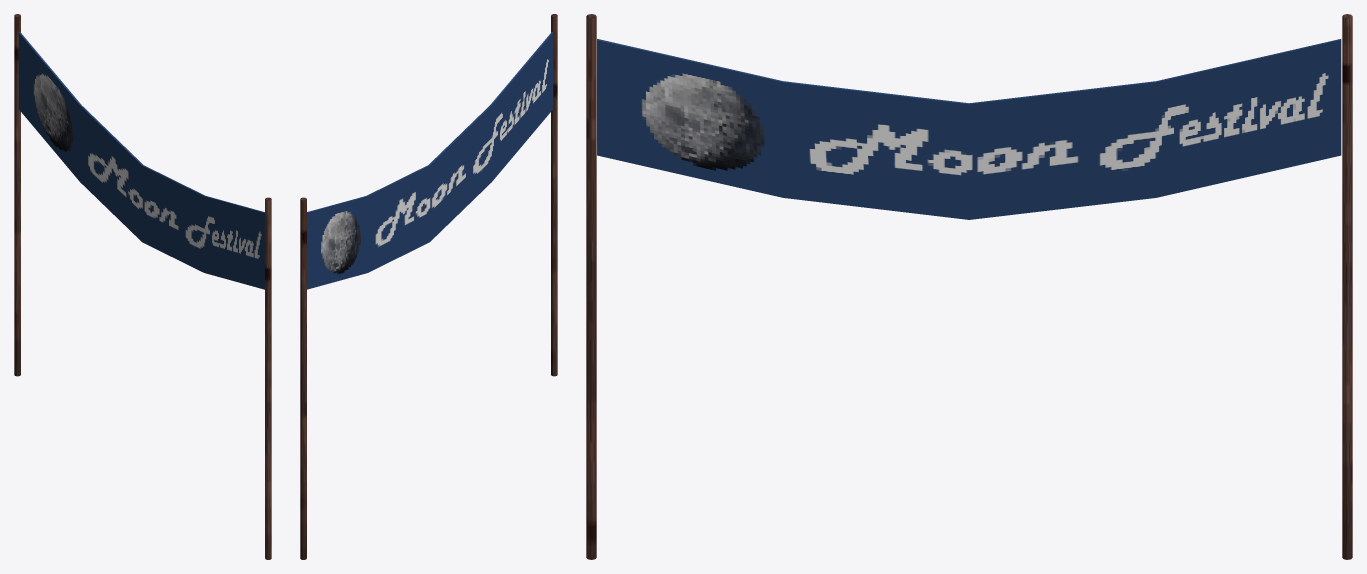
File: Banner.fbx
3 renders of one model, left to right at view 1: azimuth 30°, elevation 25°; view 2: azimuth 150°, elevation 25°; view 3: azimuth 270°, elevation 25°, orthographic. The views are drawn at different scales.
Parts seen in each view (by area): view 1: Cube, Cylinder, Cylinder.001; view 2: Cube, Cylinder.001, Cylinder; view 3: Cube, Cylinder, Cylinder.001.
Boxes of the visible parts, <box> form: Cube: <box>18,32,264,289</box>; Cylinder: <box>265,197,271,559</box>; Cylinder.001: <box>14,14,20,376</box>; Cube: <box>307,32,553,289</box>; Cylinder.001: <box>300,197,306,559</box>; Cylinder: <box>551,14,557,376</box>; Cube: <box>597,39,1341,219</box>; Cylinder: <box>586,14,596,559</box>; Cylinder.001: <box>1342,14,1352,559</box>.
Size of the model in its own units: 16.26 by 937 by 1201.
